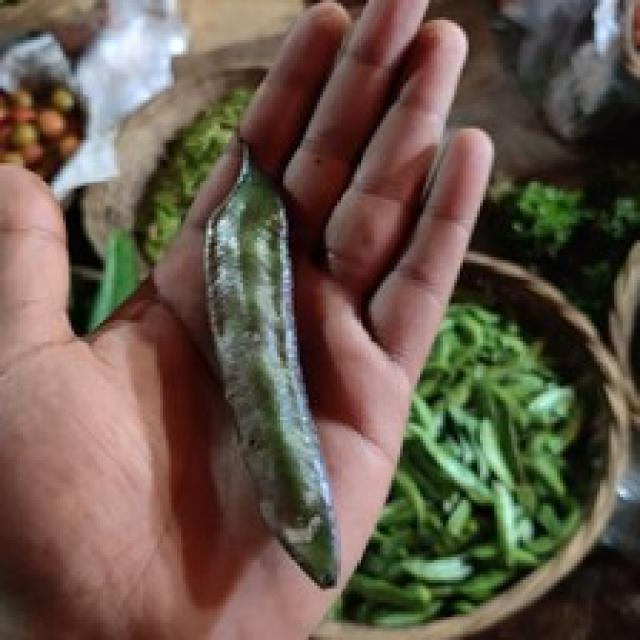Bean: (200, 140, 340, 589)
